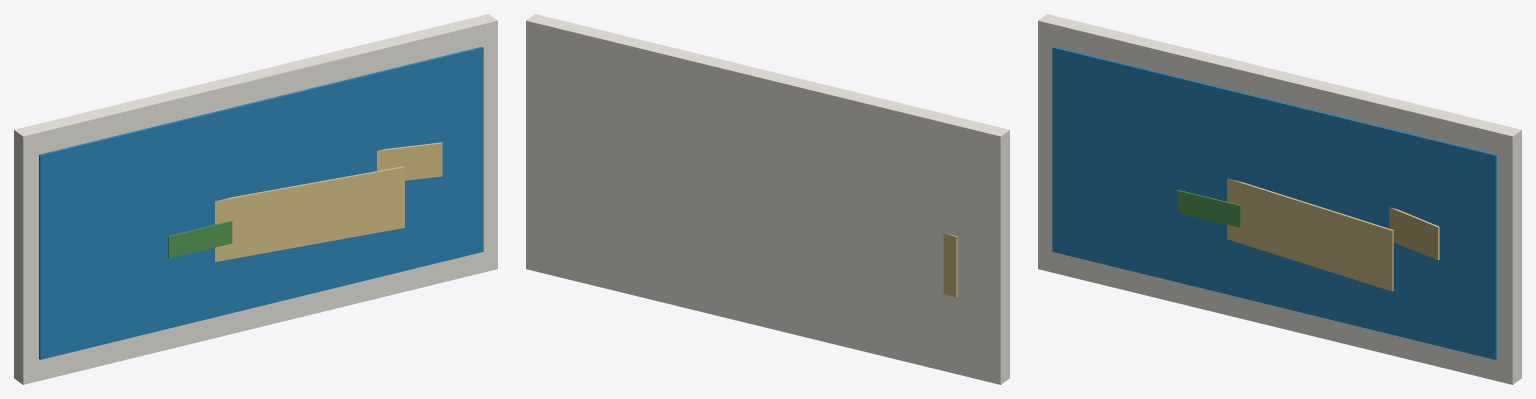
The model's file is map_mural.glb.
The picture shows the model from 3 angles, left to right: view 1: azimuth 30°, elevation 25°; view 2: azimuth 150°, elevation 25°; view 3: azimuth 330°, elevation 25°; orthographic projection.
Parts seen in each view (by area): view 1: map_mural_lod0; view 2: map_mural_lod0; view 3: map_mural_lod0.
Part boxes in pixels (bbox=[...]): map_mural_lod0: bbox=[14, 14, 497, 384]; map_mural_lod0: bbox=[526, 14, 1009, 384]; map_mural_lod0: bbox=[1038, 14, 1521, 384].
Size of what is drawn, in the model's own units: 9 by 4.5 by 0.7823.
